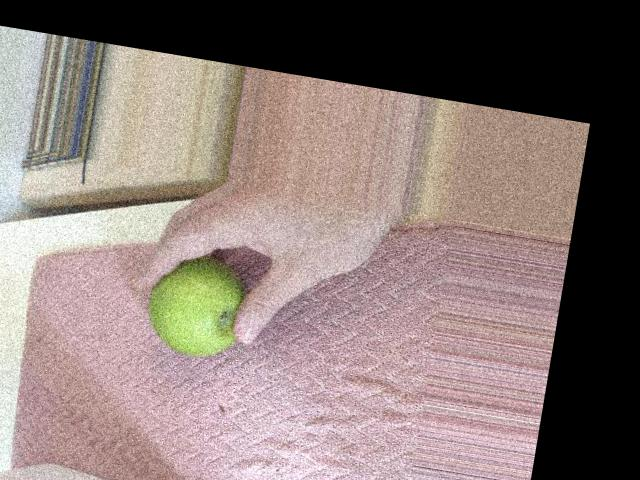apple: (126, 249, 257, 379)
